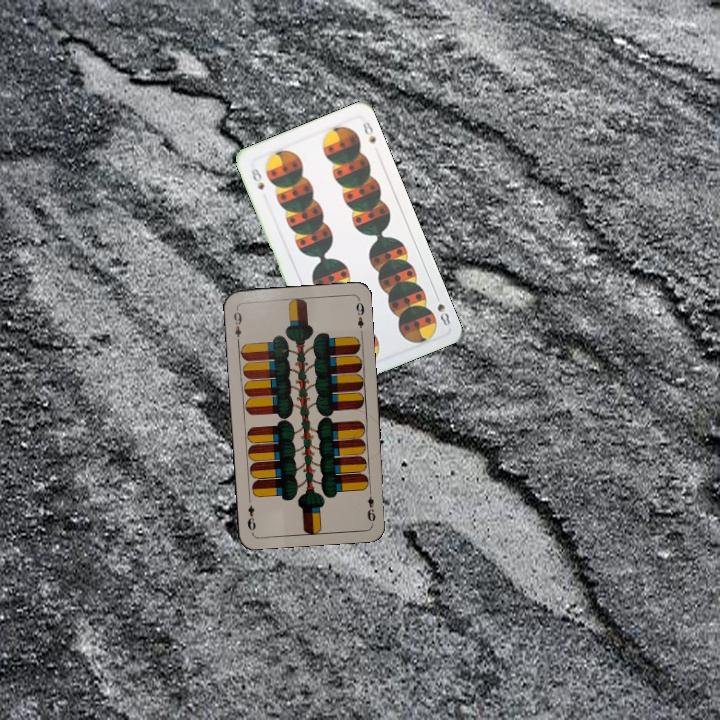E9: (363, 485, 378, 524), (230, 305, 244, 345)
S8: (431, 289, 453, 329), (247, 164, 267, 192)
